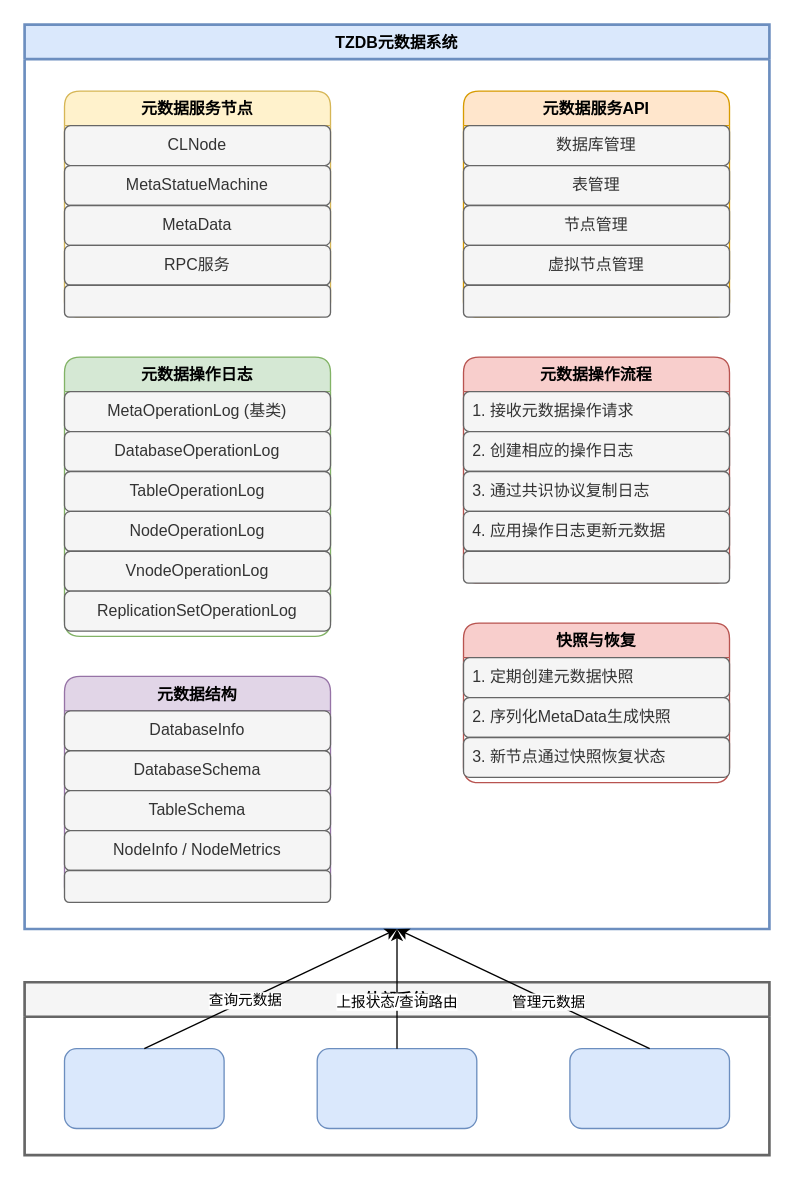
The diagram is 793 pixels wide and 1178 high, and some of its shapes have lost their labels. The shapes that lost their labels are listed below. From the top down, each one's centre as x and y in pixels, then its label:
At point 197,300: "持久化存储".
At point 596,300: "复制集管理".
At point 596,566: "5. 返回操作结果".
At point 197,885: "VnodeInfo / ReplicationSet".
At point 143,1088: "查询节点".
At point 396,1088: "数据节点".
At point 649,1088: "管理工具".
